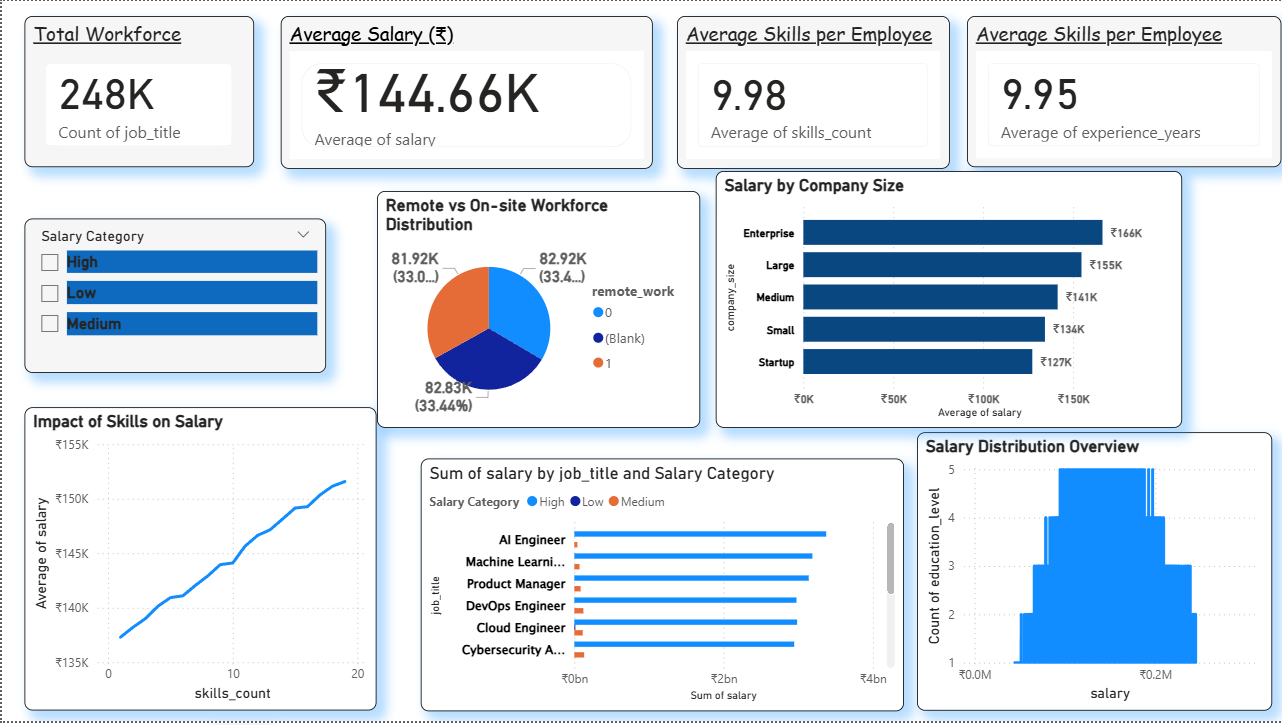

The page's visual inventory and layout, read from the dashboard file:
{"tool":"powerbi","page":{"name":"Page 4","canvas":[1280,720],"ordinal":3},"visuals":[{"type":"lineChart","title":"Impact of Skills on Salary","fields":{"Category":["cleaned_data.skills_count"],"Y":["Avg(cleaned_data.salary)"]},"box":[23.1,406.9,352,303],"z":0},{"type":"clusteredBarChart","fields":{"Series":["cleaned_data.Salary Category"],"Category":["cleaned_data.job_title"],"Y":["Sum(cleaned_data.salary)"]},"box":[418.4,457.4,483.3,252.5],"z":1000},{"type":"lineChart","title":"Salary Distribution Overview","fields":{"Category":["cleaned_data.salary"],"Y":["Count(cleaned_data.education_level)"]},"box":[914.7,431.4,354.9,278.5],"z":2000},{"type":"cardVisual","title":"Total Workforce","fields":{"Data":["CountNonNull(cleaned_data.job_title)"]},"box":[23.1,14.4,229.4,151.5],"z":3000},{"type":"cardVisual","title":"Average Salary (₹)","fields":{"Data":["Avg(cleaned_data.salary)"]},"box":[278.5,14.4,372.2,152.9],"z":4000},{"type":"cardVisual","title":"Average Skills per Employee","fields":{"Data":["Avg(cleaned_data.skills_count)"]},"box":[675.2,14.4,272.7,152.9],"z":5000},{"type":"cardVisual","title":"Average Skills per Employee","fields":{"Data":["Avg(cleaned_data.experience_years)"]},"box":[965.2,14.4,314.5,151.5],"z":6000},{"type":"pieChart","title":"Remote vs On-site Workforce Distribution","fields":{"Category":["cleaned_data.remote_work"],"Y":["CountNonNull(cleaned_data.salary)"]},"box":[375.1,190.4,323.2,236.6],"z":7000},{"type":"barChart","title":"Salary by Company Size","fields":{"Category":["cleaned_data.company_size"],"Y":["Avg(cleaned_data.salary)"]},"box":[714.2,170.2,466,256.8],"z":8000},{"type":"slicer","fields":{"Values":["cleaned_data.Salary Category"]},"box":[23.1,217.9,301.5,154.4],"z":9000}]}

Visuals, with their boxes in screenshot pixels (x1, y1, x2, y2), scaled from the page's 1280x720 canvas onto the 1282x725 screenshot:
"Impact of Skills on Salary" lineChart: <region>23, 410, 376, 715</region>
clusteredBarChart - cleaned_data.Salary Category x cleaned_data.job_title: <region>419, 461, 903, 715</region>
"Salary Distribution Overview" lineChart: <region>916, 434, 1272, 715</region>
"Total Workforce" cardVisual: <region>23, 14, 253, 167</region>
"Average Salary (₹)" cardVisual: <region>279, 14, 652, 168</region>
"Average Skills per Employee" cardVisual: <region>676, 14, 949, 168</region>
"Average Skills per Employee" cardVisual: <region>967, 14, 1281, 167</region>
"Remote vs On-site Workforce Distribution" pieChart: <region>376, 192, 699, 430</region>
"Salary by Company Size" barChart: <region>715, 171, 1182, 430</region>
slicer - cleaned_data.Salary Category: <region>23, 219, 325, 375</region>
